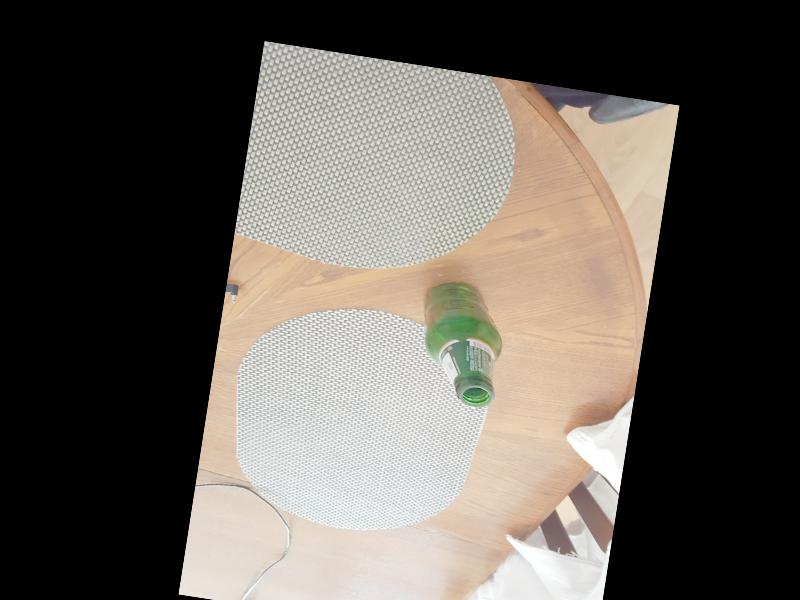Beer: (411, 276, 510, 409)
